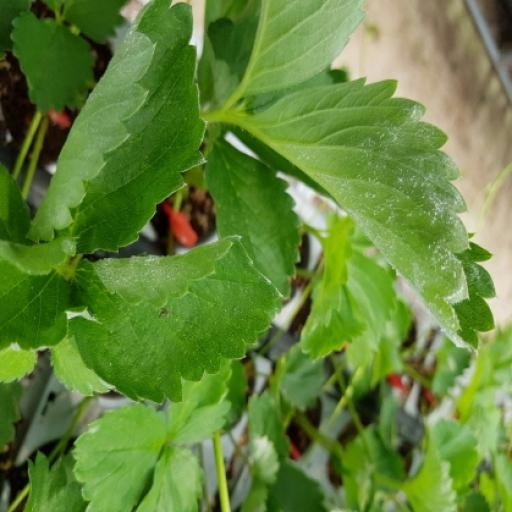Powdery Mildew Leaf: (219, 159, 498, 435), (65, 106, 284, 277), (70, 0, 167, 108)
